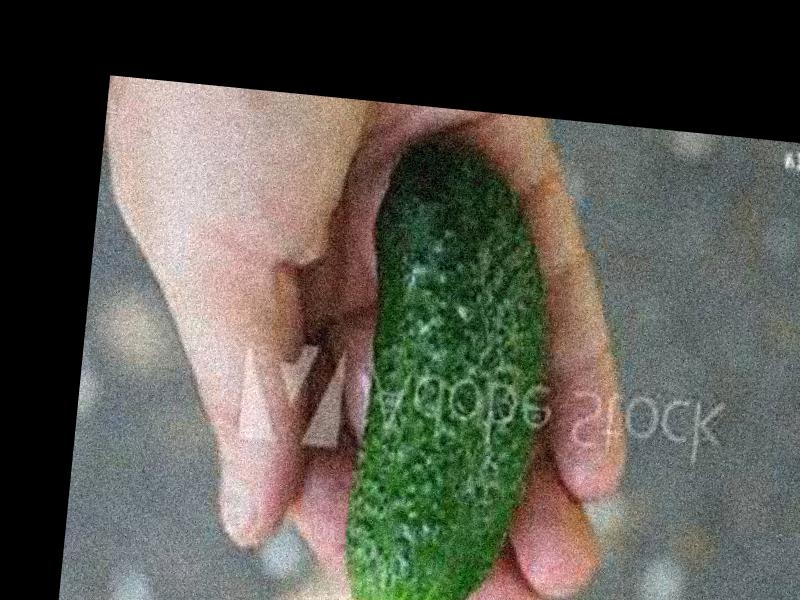Cucumber: (338, 138, 570, 600)
